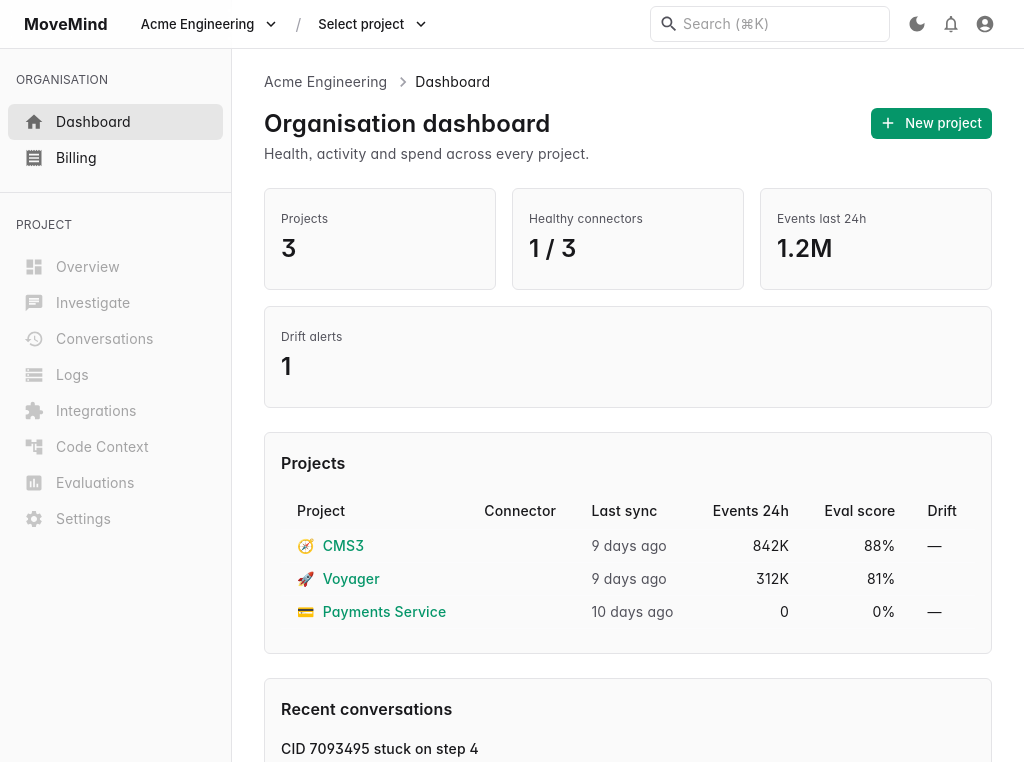
Test: OrgSwitcher › closes the menu on item click and navigates
The width and height of the screenshot is (1024, 762).
What coordinates should you click on to do the following:
click the button "Acme Engineering"
I would click on:
 (210, 24)
Its box is [136,9,283,39].
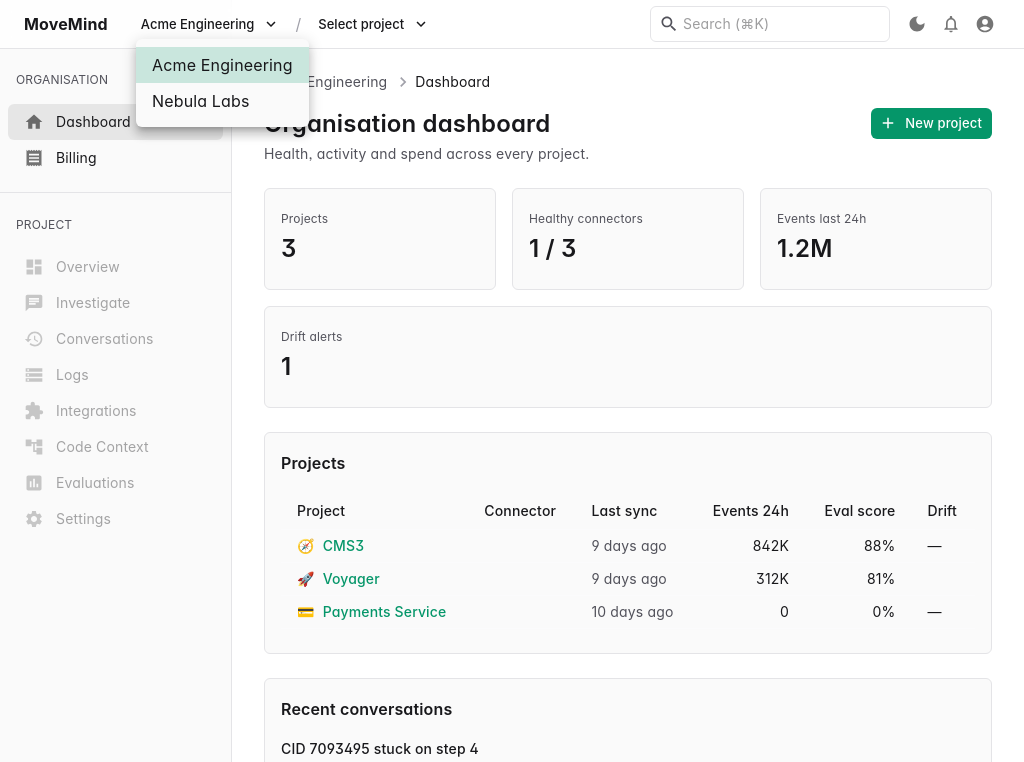
Result: the menu is shown at [136,39,309,127]
What coordinates should you click on to do the following:
click the menu item "Acme Engineering"
I would click on:
 (222, 65)
Its box is [136,47,309,83].
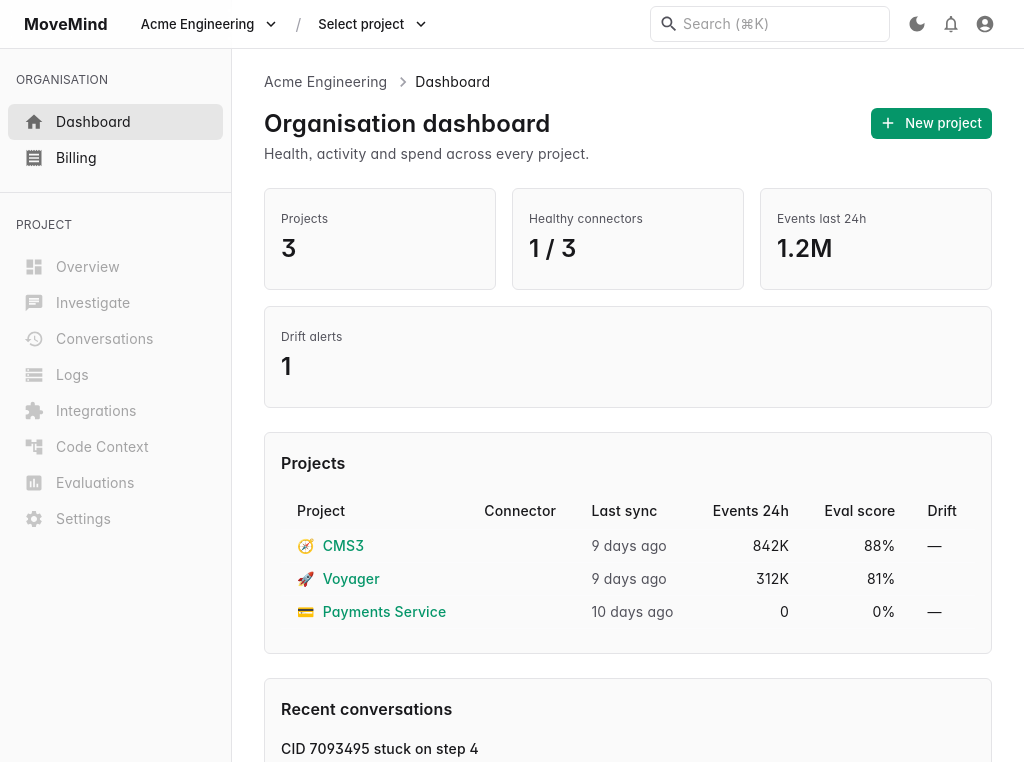
Result: the menu is gone
